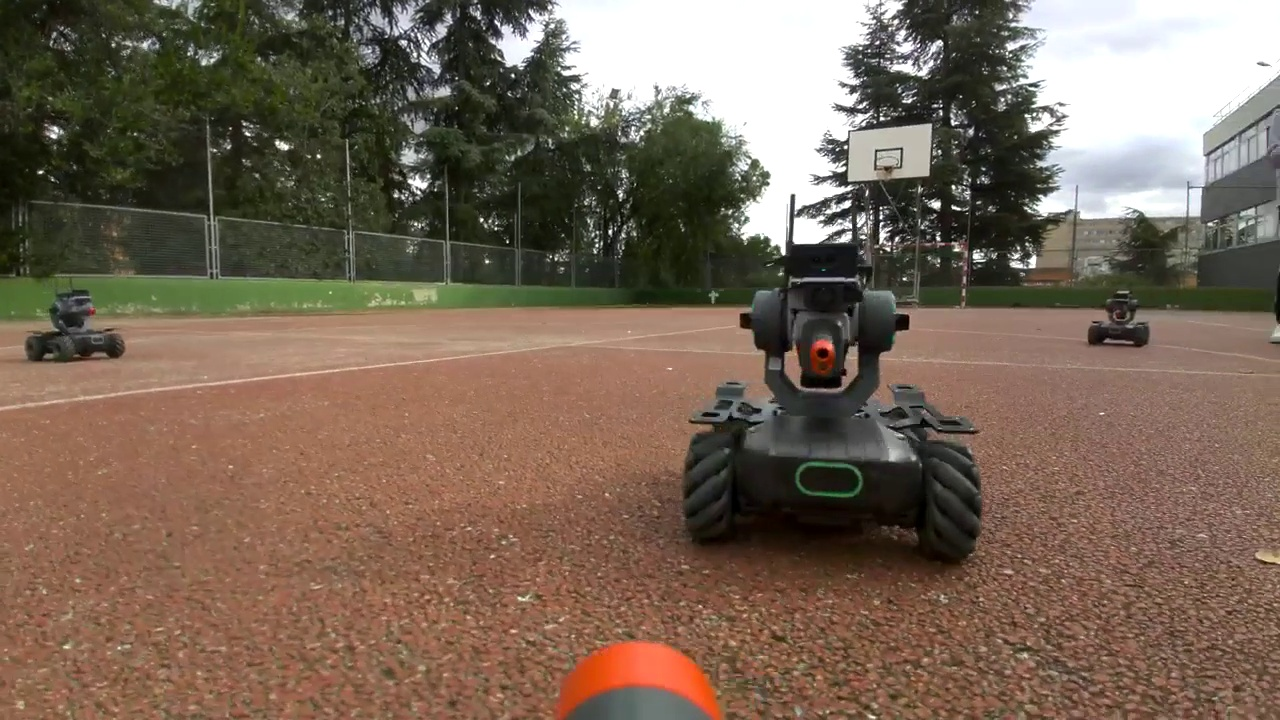robot: (686, 247, 979, 559), (25, 290, 124, 359), (1090, 293, 1148, 347)
